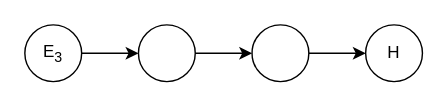
Image size: 447x107. Some labels were removed from this diagram. Each missing label, with the centre of its shape:
"E 1" goes at point (280, 52).
"E 2" goes at point (166, 52).
